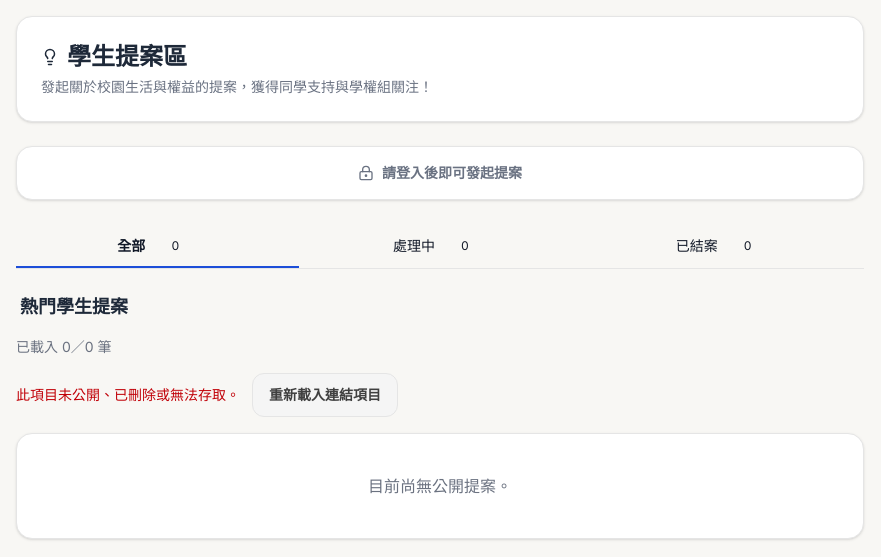
keeps unavailable-link feedback alongside the 處理中 empty state
The image size is (881, 557).
Check: the message "此項目未公開、已刪除或無法存取。" is shown, box top-left (16, 385), bottom-right (240, 405)
Check: the text "目前尚無公開提案。" is shown, box top-left (368, 476), bottom-right (512, 496)
Step 1. Click the tab "處理中 0" → [414, 246], box top-left (299, 224), bottom-right (581, 268)
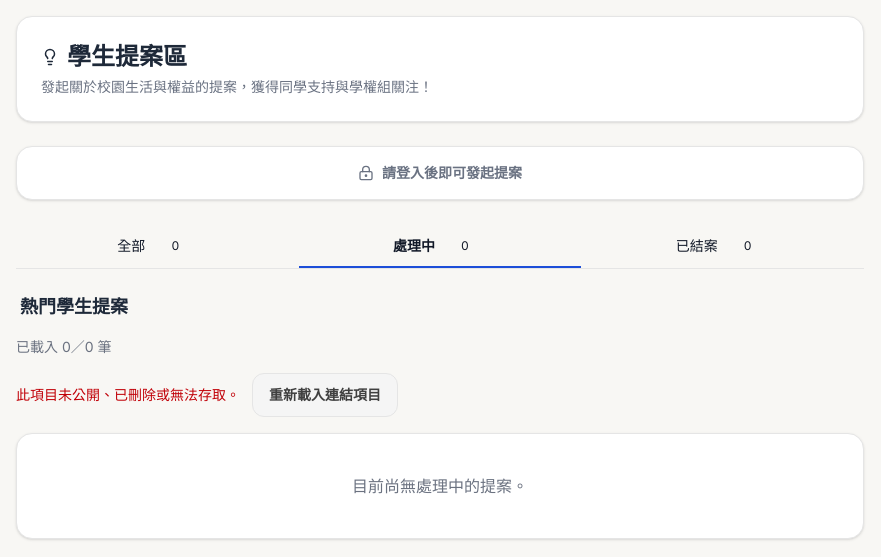
Check: the message reads "此項目未公開、已刪除或無法存取。", box top-left (16, 386), bottom-right (240, 403)
Check: the text "目前尚無處理中的提案。" is shown, box top-left (352, 476), bottom-right (528, 496)
